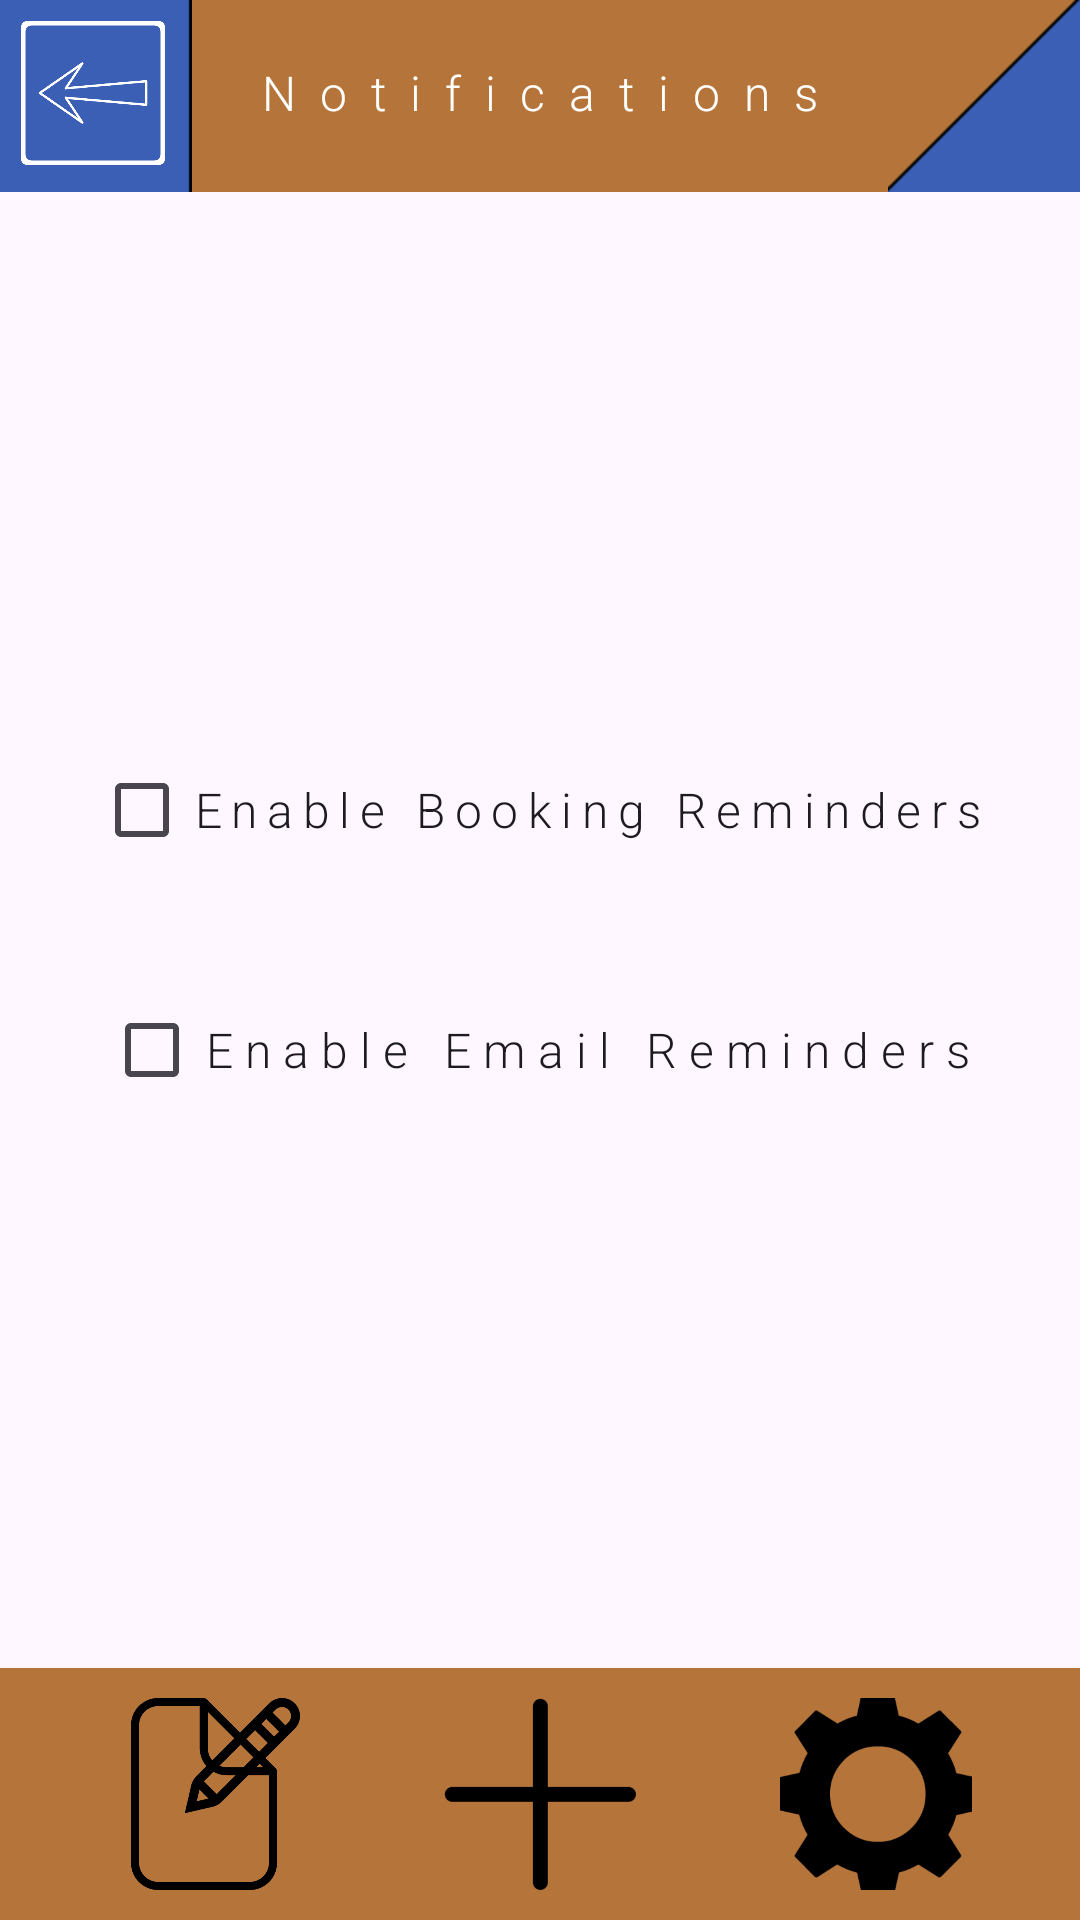

Named icons in this screenshot (1080w x 1920h) and their centers, [x,y]:
create booking: [540,1794]
settings: [876,1794]
